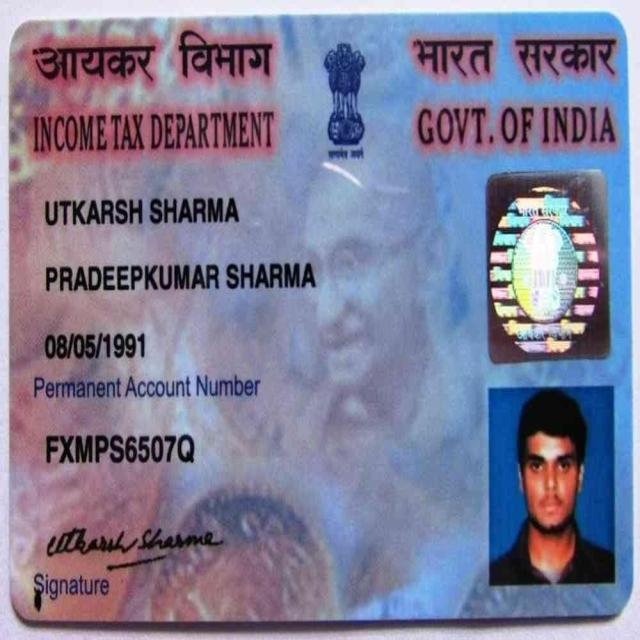pan_card: (11, 21, 628, 617)
